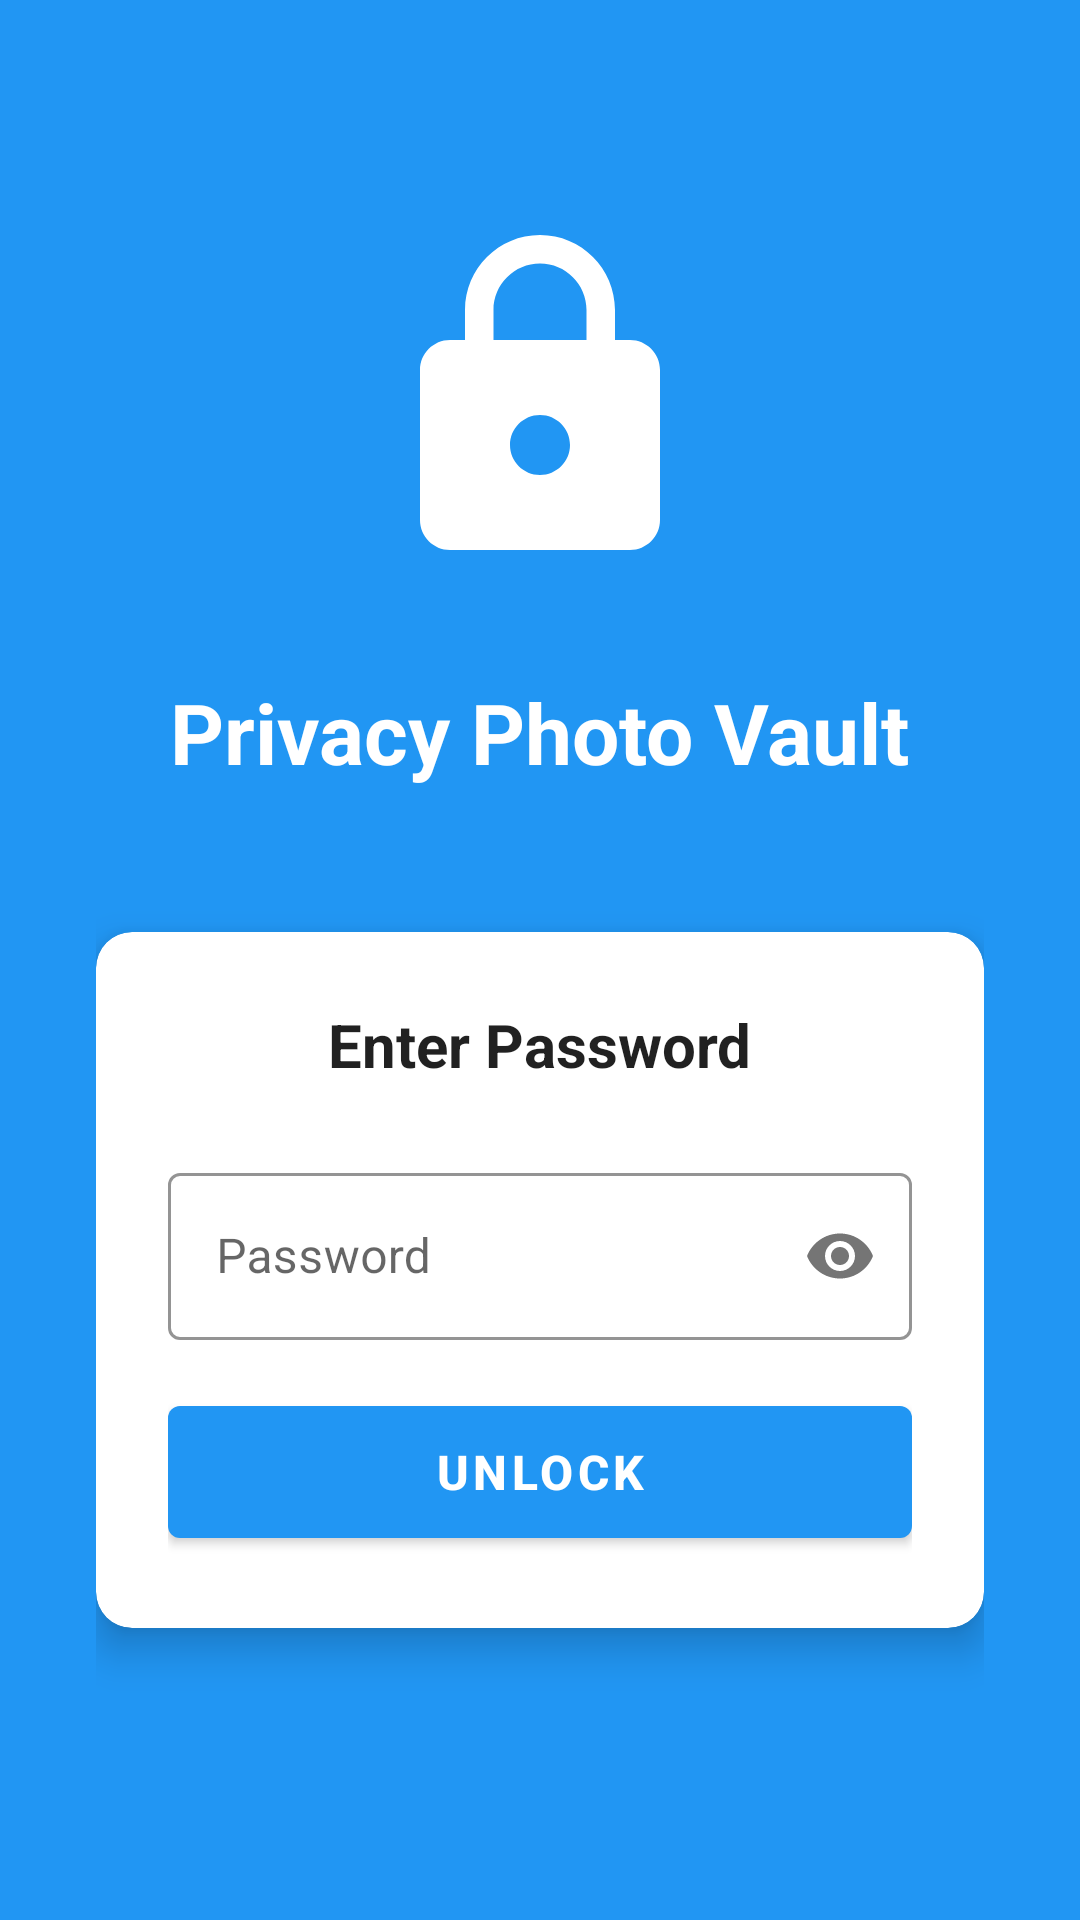

Icon click points for this 1080×1920 phone screenshot, format (x=x, y=y):
lock: (x=540, y=392)
